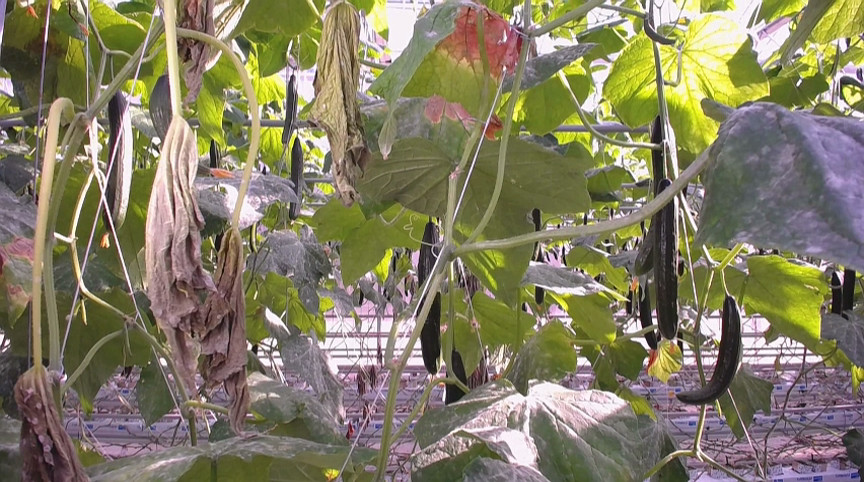cucumber: (675, 294, 741, 405), (635, 121, 678, 274), (103, 90, 134, 234), (658, 179, 680, 340), (417, 221, 441, 357), (149, 75, 173, 146), (288, 138, 305, 223), (446, 353, 469, 406), (283, 73, 297, 144)
